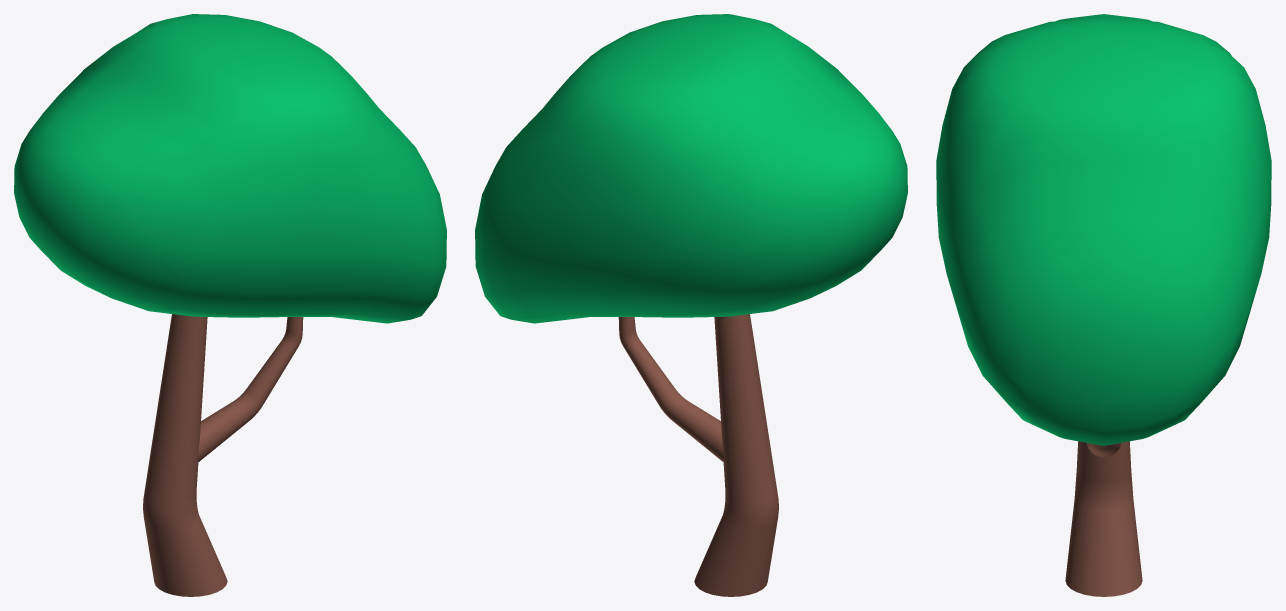
Rendered from City_2_Tree_2.glb.
The picture shows the model from 3 angles, left to right: view 1: azimuth 30°, elevation 25°; view 2: azimuth 150°, elevation 25°; view 3: azimuth 270°, elevation 25°; orthographic projection. The views are drawn at different scales.
Visible parts, largest first — view 1: City_2_Tree_2; view 2: City_2_Tree_2; view 3: City_2_Tree_2.
Boxes of the visible parts, x1,y1,x2,y2 form: City_2_Tree_2: (14, 14, 446, 596); City_2_Tree_2: (475, 14, 907, 596); City_2_Tree_2: (936, 14, 1271, 596).
Bounding box in the file's own units: 3.31 × 4.27 × 2.33.
Materials: 1 (1 with a texture image).
